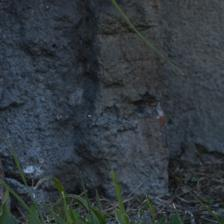Crack: (5, 71, 105, 153), (90, 30, 118, 60)
